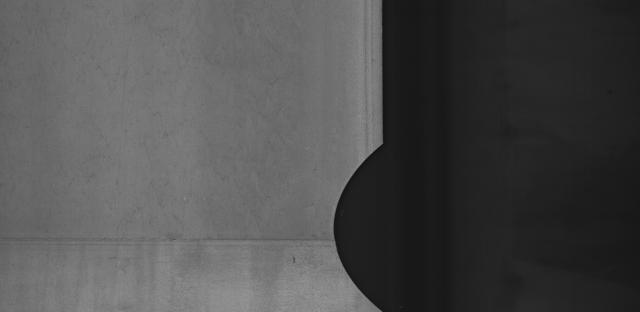crescent_gap: (326, 126, 418, 312)
welding_line: (2, 226, 354, 258)
